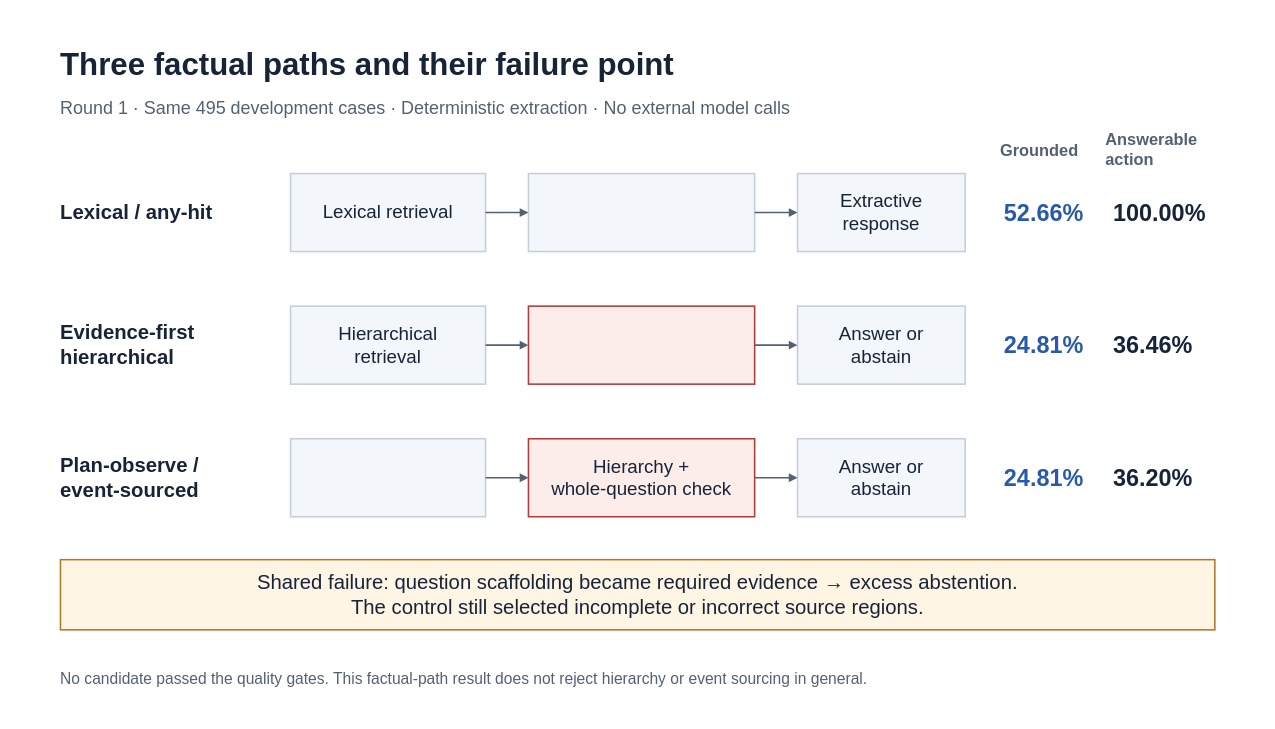
Image size: 1275x729. Some labels were removed from this diagram. The centre of each missing label's shape, as x and y in pixels:
"Accept any hit" goes at point (641, 212).
"Split question Retrieve + merge" goes at point (387, 477).
"Whole-question coverage" goes at point (641, 345).
